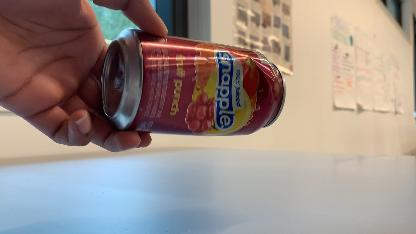Can: (100, 26, 286, 136)
